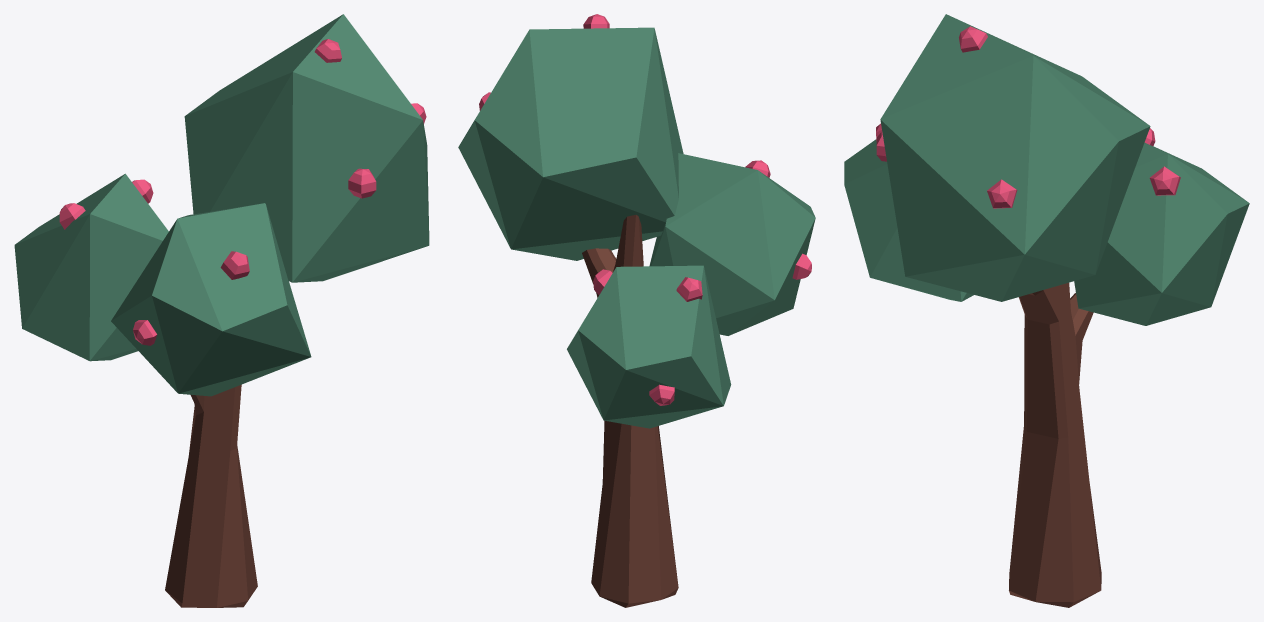
The model's file is tree_11.fbx.
3 views of the same model, side by side, from view 1: azimuth 30°, elevation 25°; view 2: azimuth 150°, elevation 25°; view 3: azimuth 270°, elevation 25° (orthographic). The views are drawn at different scales.
Visible parts, largest first — view 1: Plane.021; view 2: Plane.021; view 3: Plane.021.
Boxes of the visible parts, <box> form: Plane.021: <box>14,14,429,607</box>; Plane.021: <box>458,14,815,607</box>; Plane.021: <box>844,14,1249,607</box>.
Size of the model in its own units: 282 by 442 by 270.
